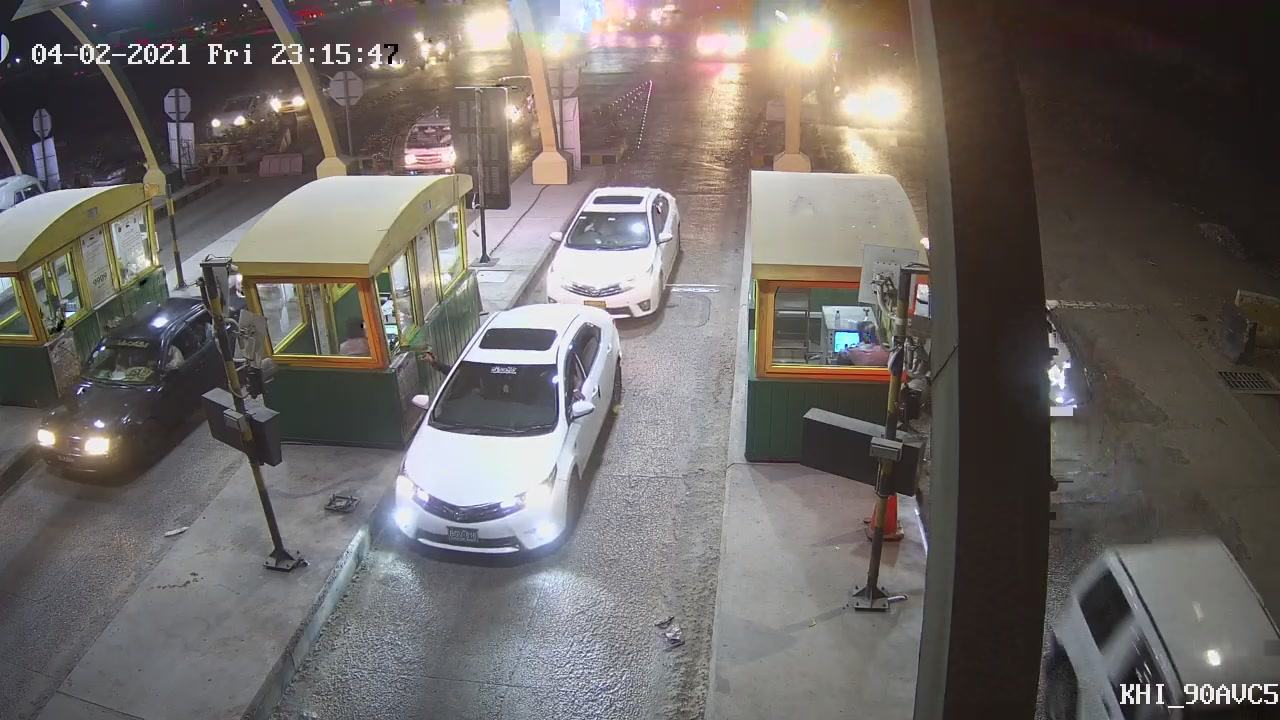F1: (394, 299, 627, 557), (528, 178, 688, 324)
